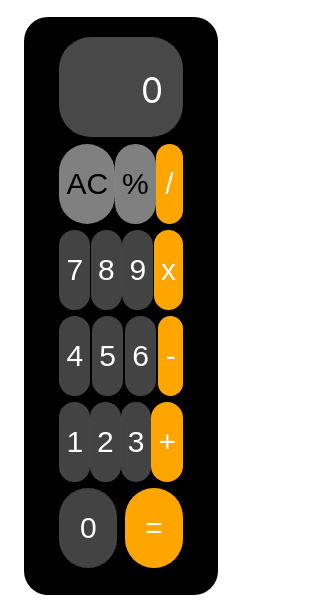
Test: Calculator › Check if result is infinity if divided by 0
What coordinates should you click on to do the following:
click the button with id "nine"
I would click on:
 (138, 270)
Its box is top-left (122, 230), bottom-right (153, 310).
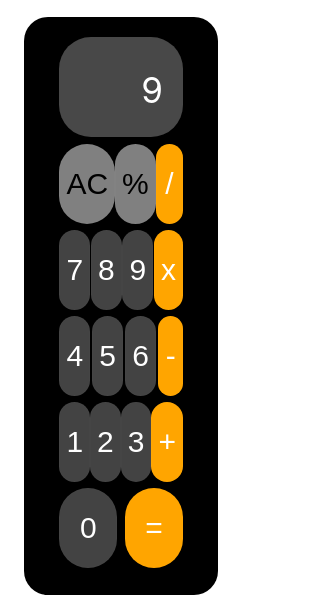
What coordinates should you click on to do the following:
click the button with id "two"
I would click on:
 (105, 442)
Its box is top-left (90, 402), bottom-right (121, 482).
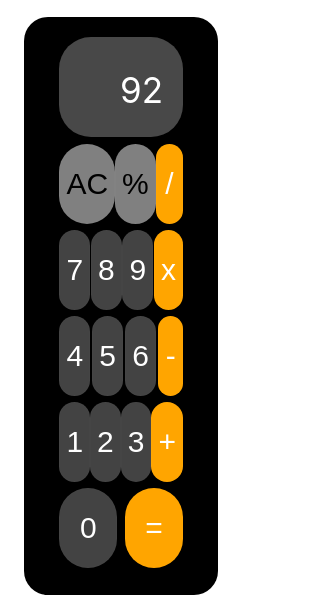
What coordinates should you click on to do the following:
click the button with id "divide"
I would click on:
 (169, 184)
Its box is top-left (156, 144), bottom-right (183, 224).
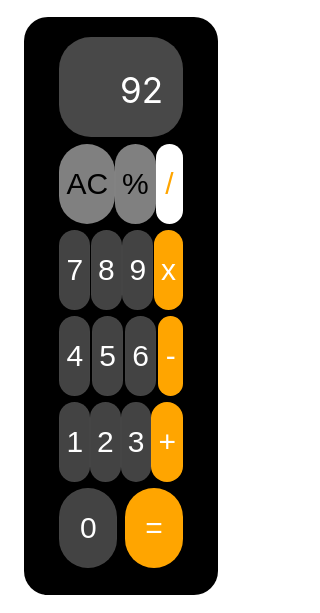
What coordinates should you click on to do the following:
click the button with id "zero"
I would click on:
 (88, 528)
Its box is top-left (59, 488), bottom-right (118, 568).
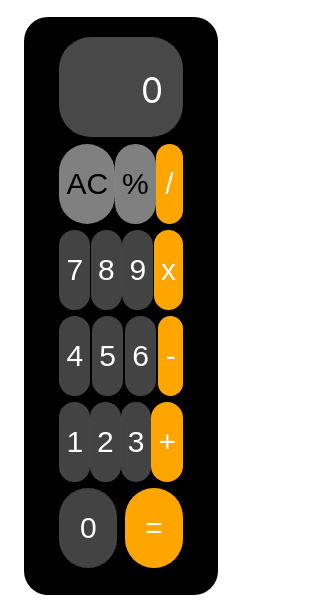
What coordinates should you click on to do the following:
click the button with id "equals"
I would click on:
 (154, 528)
Its box is top-left (125, 488), bottom-right (183, 568).
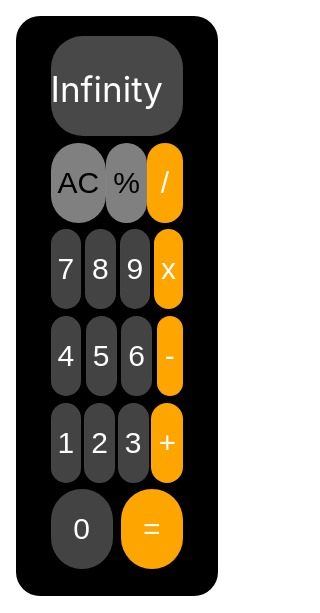
Result: the element with class "display" reads "Infinity" at top-left (50, 68), bottom-right (163, 110)
